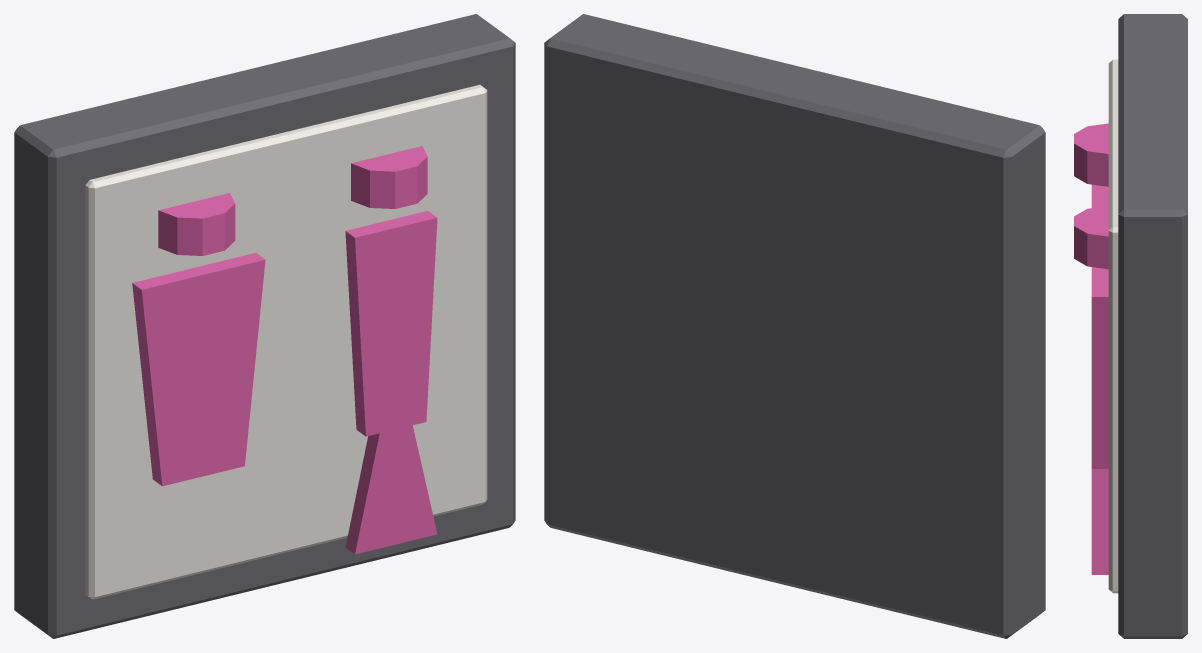
The model's file is nightclub-and-dj-booth-toilet-door-sign-13cf84bb.glb.
The picture shows the model from 3 angles, left to right: view 1: azimuth 30°, elevation 25°; view 2: azimuth 150°, elevation 25°; view 3: azimuth 270°, elevation 25°; orthographic projection. The views are drawn at different scales.
Parts seen in each view (by area): view 1: toilet-door-sign; view 2: toilet-door-sign; view 3: toilet-door-sign.
Boxes of the visible parts, bbox=[...] form: toilet-door-sign: bbox=[14, 14, 515, 638]; toilet-door-sign: bbox=[544, 14, 1045, 638]; toilet-door-sign: bbox=[1074, 14, 1187, 638].
Size of the model in its own units: 0.34 by 0.34 by 0.0817.
